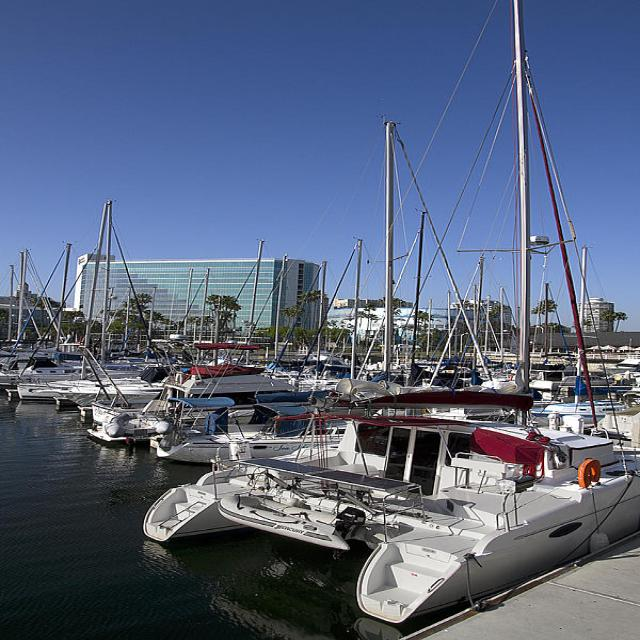houseboat: (211, 389, 640, 545)
